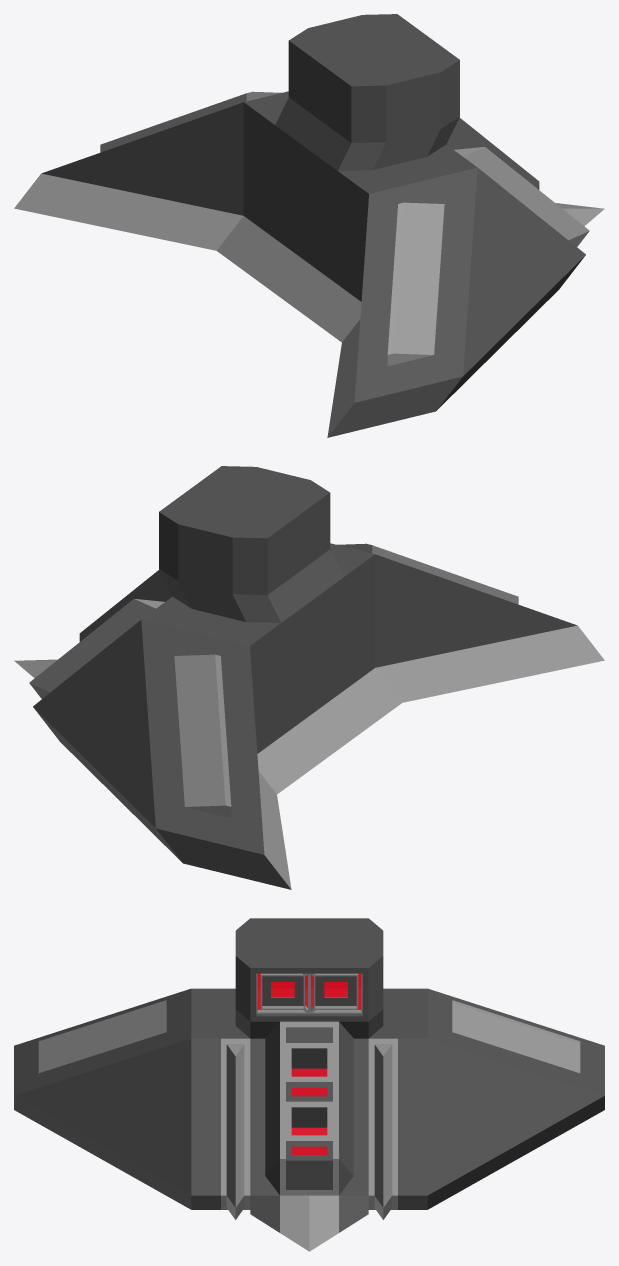
File: Striker.fbx
3 views of the same model, one above another, from view 1: azimuth 30°, elevation 25°; view 2: azimuth 150°, elevation 25°; view 3: azimuth 270°, elevation 25° (orthographic). The views are drawn at different scales.
Visible parts, largest first — view 1: Cube; view 2: Cube; view 3: Cube.
Boxes of the visible parts, x1,y1,x2,y2 form: Cube: (14, 14, 604, 437); Cube: (14, 466, 604, 889); Cube: (14, 918, 604, 1251).
Bounding box in the file's own units: 8 × 3.93 × 10.
